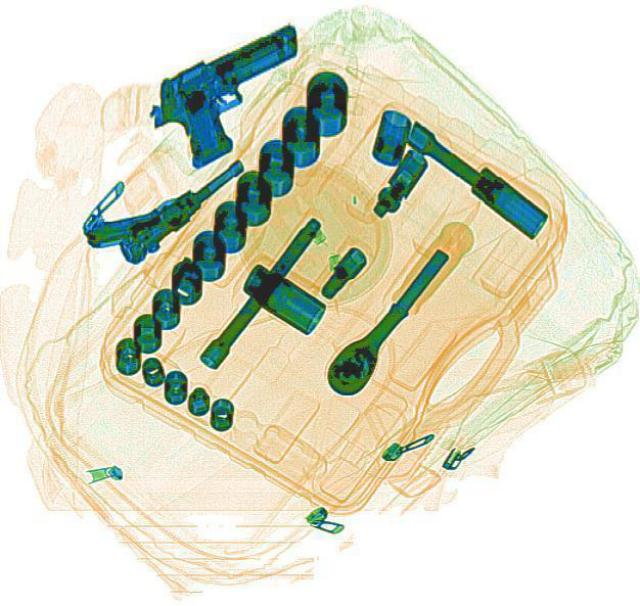Gun: (129, 21, 337, 174), (76, 123, 250, 276)
